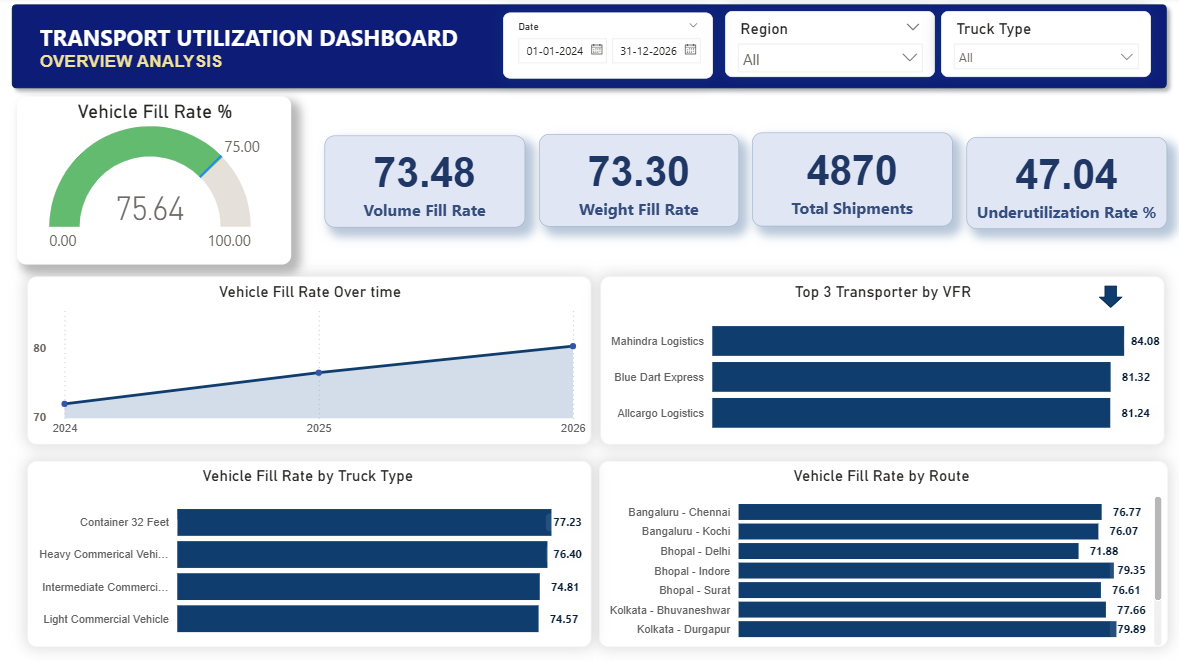

Layout of this report page (visuals, bound fields, positions):
{"tool":"powerbi","page":{"name":"OverviewPage","canvas":[1280,720],"ordinal":1},"visuals":[{"type":"shape","box":[4.9,0,1264.6,108.5],"z":0},{"type":"clusteredBarChart","title":"Top 3 Transporter by VFR","fields":{"Category":["DimTransporter.TransporterDesc"],"Y":["FactShipment.Average Vehicle Fill Rate %"]},"box":[649,303.6,608.8,181.4],"z":0,"group":"g2"},{"type":"clusteredBarChart","title":"Vehicle Fill Rate by Route","fields":{"Y":["FactShipment.Average Vehicle Fill Rate %"],"Category":["DimRoute.RouteDesc"]},"box":[647.3,502.1,613.7,200.8],"z":0,"group":"g1"},{"type":"shape","box":[1186.1,312.7,26.3,24.3],"z":1000,"group":"g2"},{"type":"group","id":"g1","title":"Top 3 route","box":[647.3,502.1,613.7,200.8],"z":1000},{"type":"gauge","title":" Vehicle Fill Rate %","fields":{"Y":["FactShipment.Average Vehicle Fill Rate %"]},"box":[18.6,109,296.3,181.4],"z":2000},{"type":"card","fields":{"Values":["FactShipment.Average Volume Fill Rate %"]},"box":[351.2,150,216.7,99.2],"z":3000},{"type":"card","fields":{"Values":["FactShipment.Average Weight Fill Rate %"]},"box":[582.6,149.2,216,100],"z":4000},{"type":"card","fields":{"Values":["FactShipment.Total Shipments"]},"box":[813,147.9,216.7,101.3],"z":5000},{"type":"card","fields":{"Values":["FactShipment.Underutilization Rate %"]},"box":[1043.9,151.6,216.7,99.2],"z":6000},{"type":"slicer","fields":{"Values":["DimLocation.Region"]},"box":[783.7,16.2,226.7,71],"z":7000},{"type":"slicer","fields":{"Values":["DimDate.Date"]},"box":[544.1,17.8,226.7,71.2],"z":8000},{"type":"slicer","fields":{"Values":["DimTruckType.TruckTypeDesc"]},"box":[1016.9,16.2,226.7,71],"z":9000},{"type":"lineChart","title":"Vehicle Fill Rate Over time","fields":{"Y":["FactShipment.Average Vehicle Fill Rate %"],"Category":["DimDate.Year Hierarchy.Year","DimDate.Year Hierarchy.Quarter","DimDate.Year Hierarchy.Month","DimDate.Year Hierarchy.Day"]},"box":[30,303.3,608.8,181.4],"z":10000},{"type":"clusteredBarChart","title":"Vehicle Fill Rate by Truck Type","fields":{"Y":["FactShipment.Average Vehicle Fill Rate %"],"Category":["DimTruckType.TruckTypeDesc"]},"box":[30.8,502,608.8,200.8],"z":11000},{"type":"textbox","box":[38.9,22.7,505.2,85.8],"z":12000},{"type":"group","id":"g2","title":"Top 3 Transporters","box":[649,303.6,608.8,181.4],"z":13000}]}

Visuals, with their boxes in screenshot pixels (x1, y1, x2, y2), scaled from the page's 1280x720 canvas onto the 1179x661 screenshot:
shape: box(5, 0, 1169, 100)
"Top 3 Transporter by VFR" clusteredBarChart: box(598, 279, 1159, 445)
"Vehicle Fill Rate by Route" clusteredBarChart: box(596, 461, 1161, 645)
shape: box(1093, 287, 1117, 309)
"Top 3 route" group: box(596, 461, 1161, 645)
" Vehicle Fill Rate %" gauge: box(17, 100, 290, 267)
card - FactShipment.Average Volume Fill Rate %: box(323, 138, 523, 229)
card - FactShipment.Average Weight Fill Rate %: box(537, 137, 736, 229)
card - FactShipment.Total Shipments: box(749, 136, 948, 229)
card - FactShipment.Underutilization Rate %: box(962, 139, 1161, 230)
slicer - DimLocation.Region: box(722, 15, 931, 80)
slicer - DimDate.Date: box(501, 16, 710, 82)
slicer - DimTruckType.TruckTypeDesc: box(937, 15, 1145, 80)
"Vehicle Fill Rate Over time" lineChart: box(28, 278, 588, 445)
"Vehicle Fill Rate by Truck Type" clusteredBarChart: box(28, 461, 589, 645)
textbox: box(36, 21, 501, 100)
"Top 3 Transporters" group: box(598, 279, 1159, 445)
